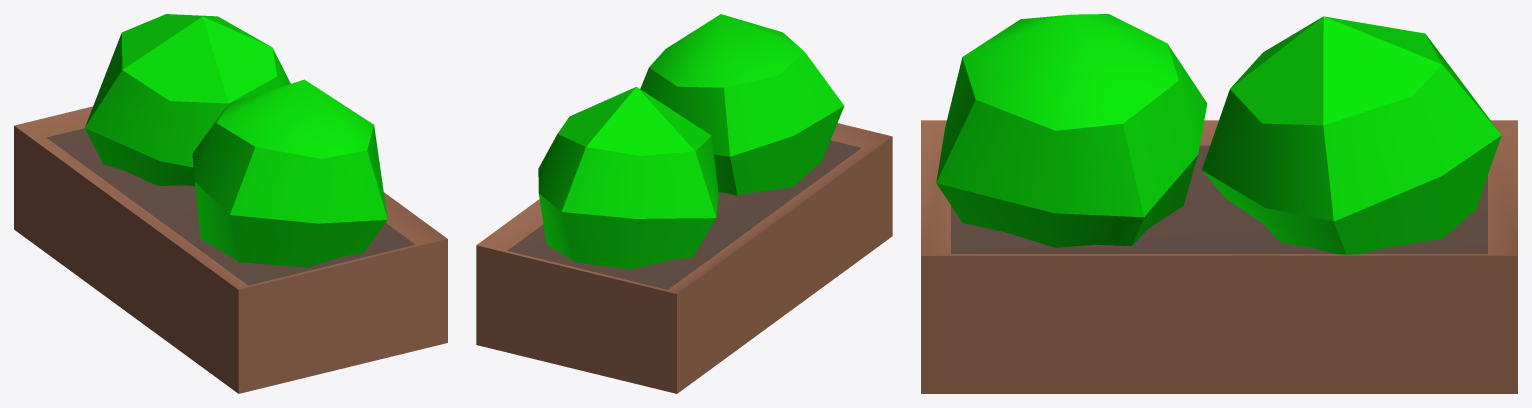
The model's file is Prop_PotPlantDouble_Mod_01.fbx.
The picture shows the model from 3 angles, left to right: view 1: azimuth 30°, elevation 25°; view 2: azimuth 150°, elevation 25°; view 3: azimuth 270°, elevation 25°; orthographic projection. The views are drawn at different scales.
Parts seen in each view (by area): view 1: PotPlantDouble; view 2: PotPlantDouble; view 3: PotPlantDouble.
Boxes of the visible parts, <box> form: PotPlantDouble: <box>14,14,447,393</box>; PotPlantDouble: <box>476,14,892,393</box>; PotPlantDouble: <box>921,14,1517,393</box>.
Size of the model in its own units: 0.8107 by 0.8809 by 1.48.
